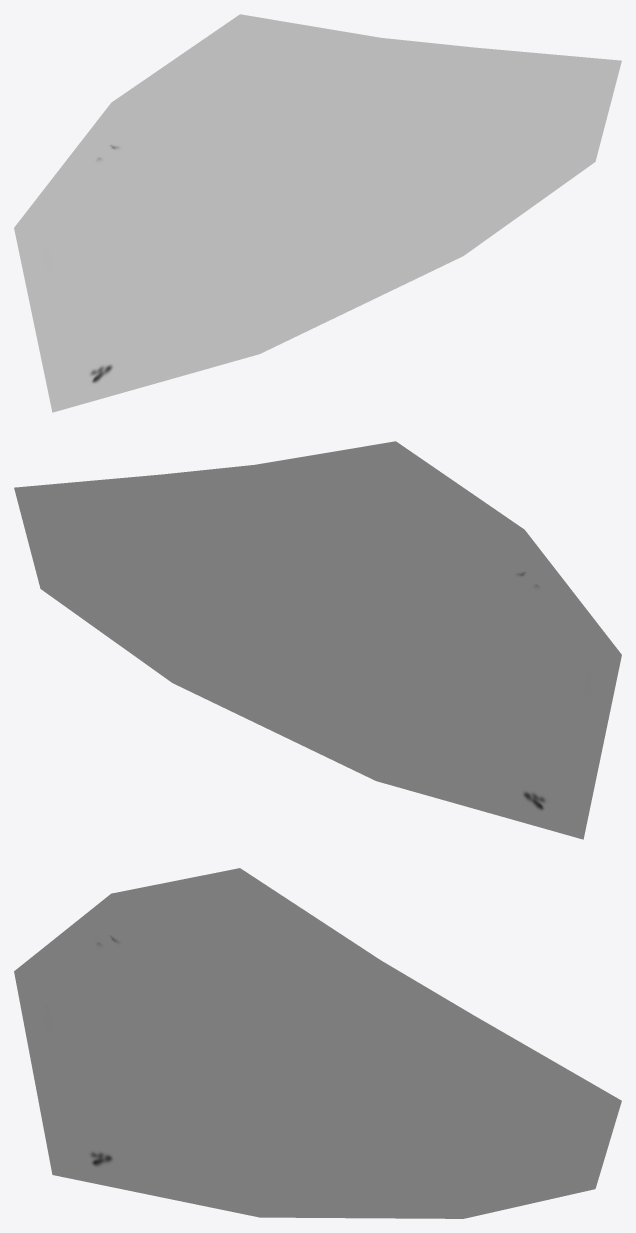
File: mesh_world_cloud_2_cloud01.FBX
3 views of the same model, one above another, from view 1: azimuth 30°, elevation 25°; view 2: azimuth 150°, elevation 25°; view 3: azimuth 330°, elevation 25° (orthographic).
Parts seen in each view (by area): view 1: mesh_world_cloud_2_cloud01; view 2: mesh_world_cloud_2_cloud01; view 3: mesh_world_cloud_2_cloud01.
Boxes of the visible parts, x1,y1,x2,y2 form: mesh_world_cloud_2_cloud01: (14,14,621,412); mesh_world_cloud_2_cloud01: (14,441,621,839); mesh_world_cloud_2_cloud01: (14,868,621,1218).
Size of the model in its own units: 19.11 by 10.6 by 2.89e-06.
1 material, 1 textured.
